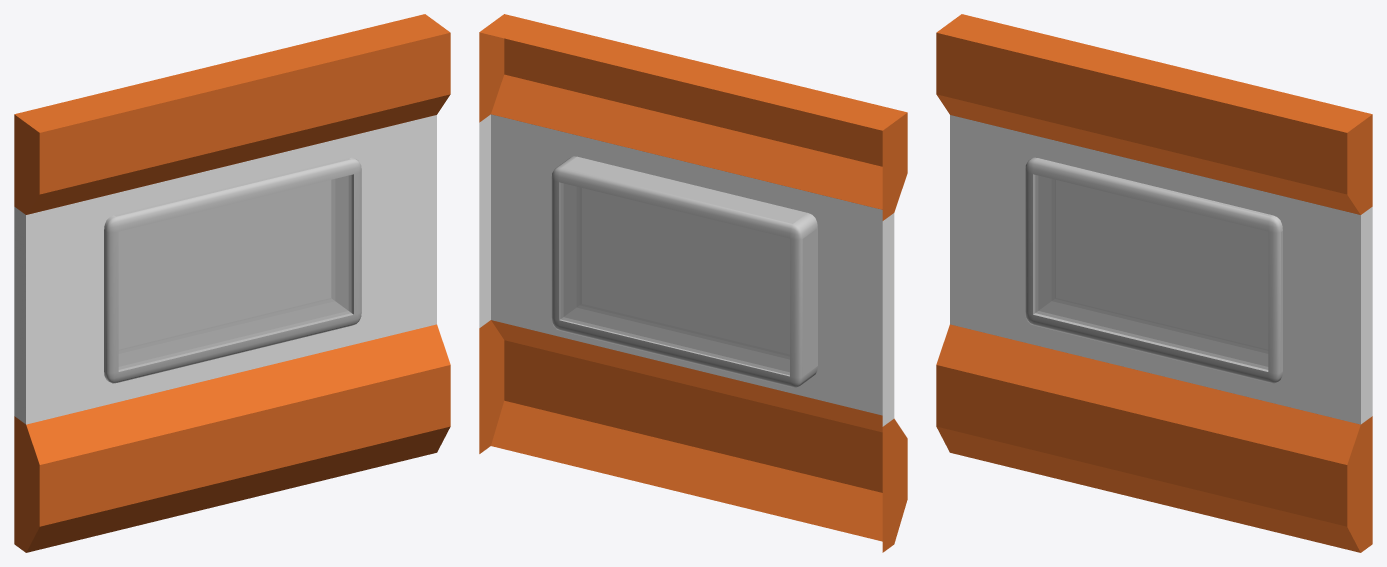
Rendered from wall_basic003.fbx.
The picture shows the model from 3 angles, left to right: view 1: azimuth 30°, elevation 25°; view 2: azimuth 150°, elevation 25°; view 3: azimuth 330°, elevation 25°; orthographic projection.
Parts seen in each view (by area): view 1: wall_basic003; view 2: wall_basic003; view 3: wall_basic003.
Boxes of the visible parts, x1=… form: wall_basic003: x1=14, y1=14, x2=450, y2=552; wall_basic003: x1=479, y1=14, x2=907, y2=552; wall_basic003: x1=936, y1=14, x2=1372, y2=552.
Bounding box in the file's own units: 300 × 300 × 40.33.
Materials: 3 (1 with a texture image).
